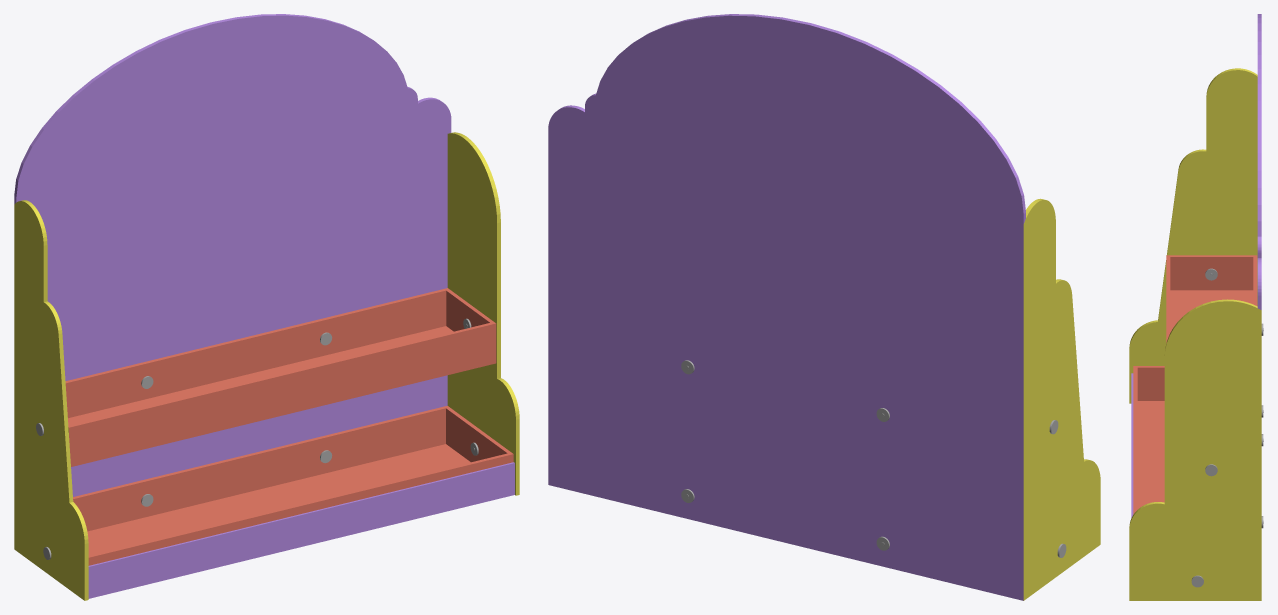
The model's file is Claudia 1.glb.
3 renders of one model, left to right at view 1: azimuth 30°, elevation 25°; view 2: azimuth 150°, elevation 25°; view 3: azimuth 270°, elevation 25°, orthographic. The views are drawn at different scales.
Visible parts, largest first — view 1: Curve, Cube.001, Cube, Curve.002, Cube.002, Curve.001; view 2: Curve, Curve.002; view 3: Curve.001, Curve.002, Cube.001, Cube, Curve, Cube.002, Baut Cowo.003.
Part boxes in pixels (x1,y1,x2,y2): Curve: (14, 14, 451, 496); Cube.001: (65, 288, 496, 466); Cube: (73, 406, 513, 565); Curve.002: (14, 200, 88, 600); Cube.002: (88, 462, 514, 598); Curve.001: (447, 132, 519, 495); Curve: (548, 14, 1025, 600); Curve.002: (1023, 198, 1100, 600); Curve.001: (1129, 299, 1261, 600); Curve.002: (1129, 68, 1257, 403); Cube.001: (1166, 255, 1257, 342); Cube: (1133, 366, 1164, 514); Curve: (1257, 14, 1261, 309); Cube.002: (1131, 373, 1133, 517); Baut Cowo.003: (1205, 268, 1217, 476).
Size of the model in its own units: 5.74 by 6 by 1.62.
